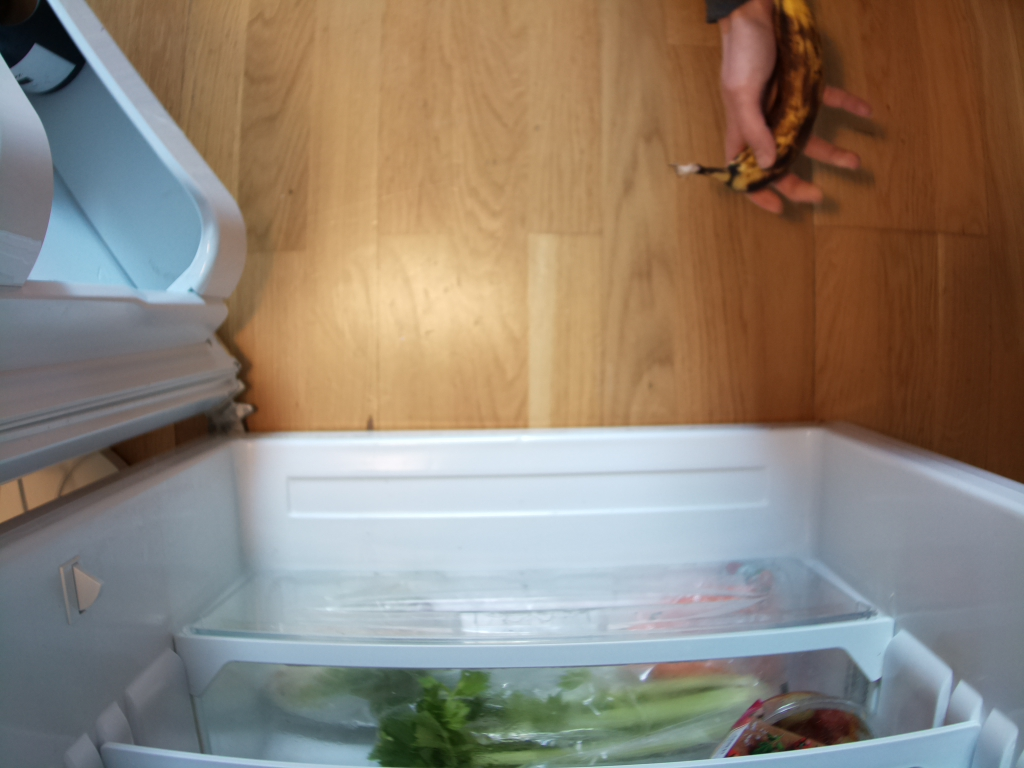banana-overripe: (675, 1, 819, 191)
